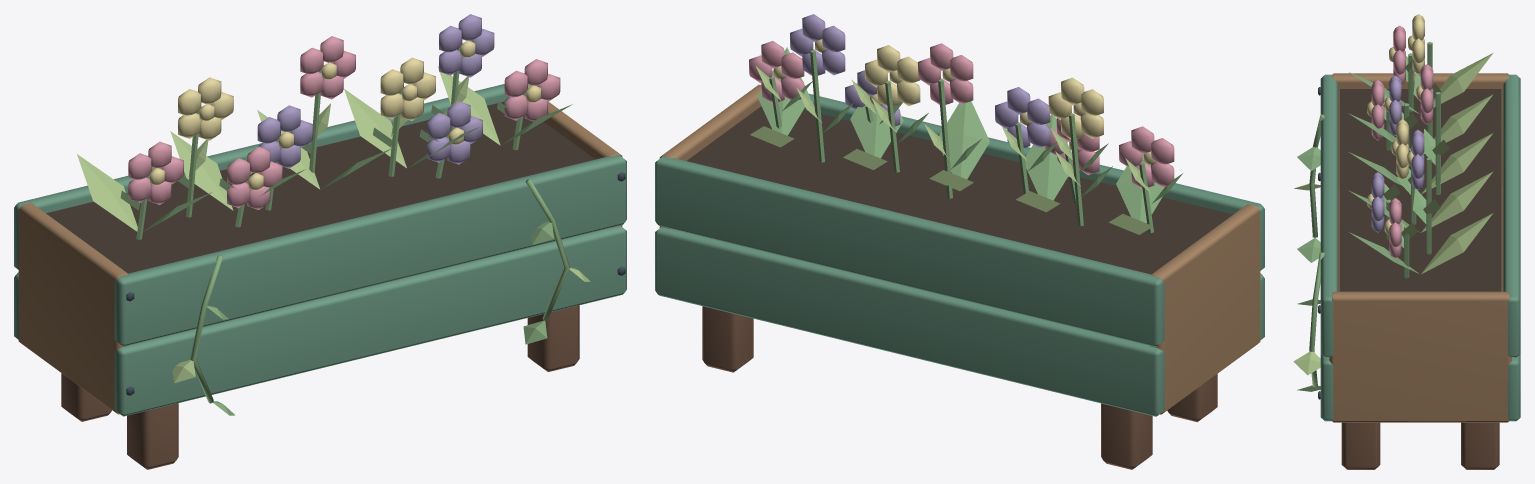
File: flower_box.glb
3 renders of one model, left to right at view 1: azimuth 30°, elevation 25°; view 2: azimuth 150°, elevation 25°; view 3: azimuth 270°, elevation 25°, orthographic. The views are drawn at different scales.
Parts seen in each view (by area): view 1: Painted front plank.001, Painted front plank, Garden soil, Planter end panel, Painted front plank.003, Short planter foot, Short planter foot.002, Full planter foliage.001, Full planter foliage.007, Planter end panel.001, Full planter foliage.003, Short planter foot.001 (+3 smaller); view 2: Painted front plank.003, Painted front plank.002, Garden soil, Planter end panel, Painted front plank.001, Short planter foot.003, Short planter foot.001, Full planter foliage.004, Planter end panel.001, Full planter foliage.002, Full planter foliage.006, Short planter foot (+5 smaller); view 3: Planter end panel.001, Garden soil, Painted front plank.001, Painted front plank.003, Planter end panel, Short planter foot.002, Short planter foot.003, Full planter foliage.009, Full planter foliage.007, Full planter foliage.005, Full planter foliage.001, Full planter foliage.003 (+35 smaller).
Part boxes in pixels (left/top/right/bottom): Painted front plank.001: left=114, top=155, right=626, bottom=346; Painted front plank: left=114, top=226, right=626, bottom=416; Garden soil: left=46, top=101, right=594, bottom=273; Planter end panel: left=18, top=203, right=128, bottom=414; Painted front plank.003: left=14, top=84, right=509, bottom=269; Short planter foot: left=127, top=403, right=178, bottom=469; Short planter foot.002: left=527, top=305, right=579, bottom=371; Full planter foliage.001: left=77, top=154, right=137, bottom=231; Full planter foliage.007: left=344, top=89, right=406, bottom=168; Planter end panel.001: left=544, top=101, right=622, bottom=227; Full planter foliage.003: left=170, top=131, right=233, bottom=210; Short planter foot.001: left=61, top=373, right=111, bottom=421; Painted front plank.003: left=655, top=156, right=1164, bottom=347; Painted front plank.002: left=655, top=227, right=1164, bottom=416; Garden soil: left=687, top=106, right=1232, bottom=274; Planter end panel: left=1150, top=204, right=1260, bottom=414; Painted front plank.001: left=804, top=93, right=1264, bottom=270; Short planter foot.003: left=702, top=306, right=753, bottom=372; Short planter foot.001: left=1101, top=403, right=1152, bottom=469; Full planter foliage.004: left=939, top=101, right=989, bottom=179; Planter end panel.001: left=659, top=84, right=761, bottom=228; Full planter foliage.002: left=1025, top=114, right=1068, bottom=200; Full planter foliage.006: left=850, top=96, right=903, bottom=158; Short planter foot: left=1167, top=374, right=1217, bottom=422; Planter end panel.001: left=1329, top=291, right=1511, bottom=422; Garden soil: left=1340, top=89, right=1501, bottom=291; Painted front plank.001: left=1320, top=74, right=1338, bottom=357; Painted front plank.003: left=1503, top=74, right=1520, bottom=357; Planter end panel: left=1332, top=73, right=1508, bottom=185; Short planter foot.002: left=1341, top=422, right=1380, bottom=469; Short planter foot.003: left=1461, top=422, right=1499, bottom=469; Full planter foliage.009: left=1421, top=213, right=1493, bottom=274; Full planter foliage.007: left=1421, top=171, right=1493, bottom=232; Full planter foliage.005: left=1421, top=133, right=1492, bottom=194; Full planter foliage.001: left=1433, top=53, right=1492, bottom=107; Full planter foliage.003: left=1423, top=94, right=1493, bottom=154.
Bounding box in the file's own units: 0.7044 × 0.4587 × 0.3.
